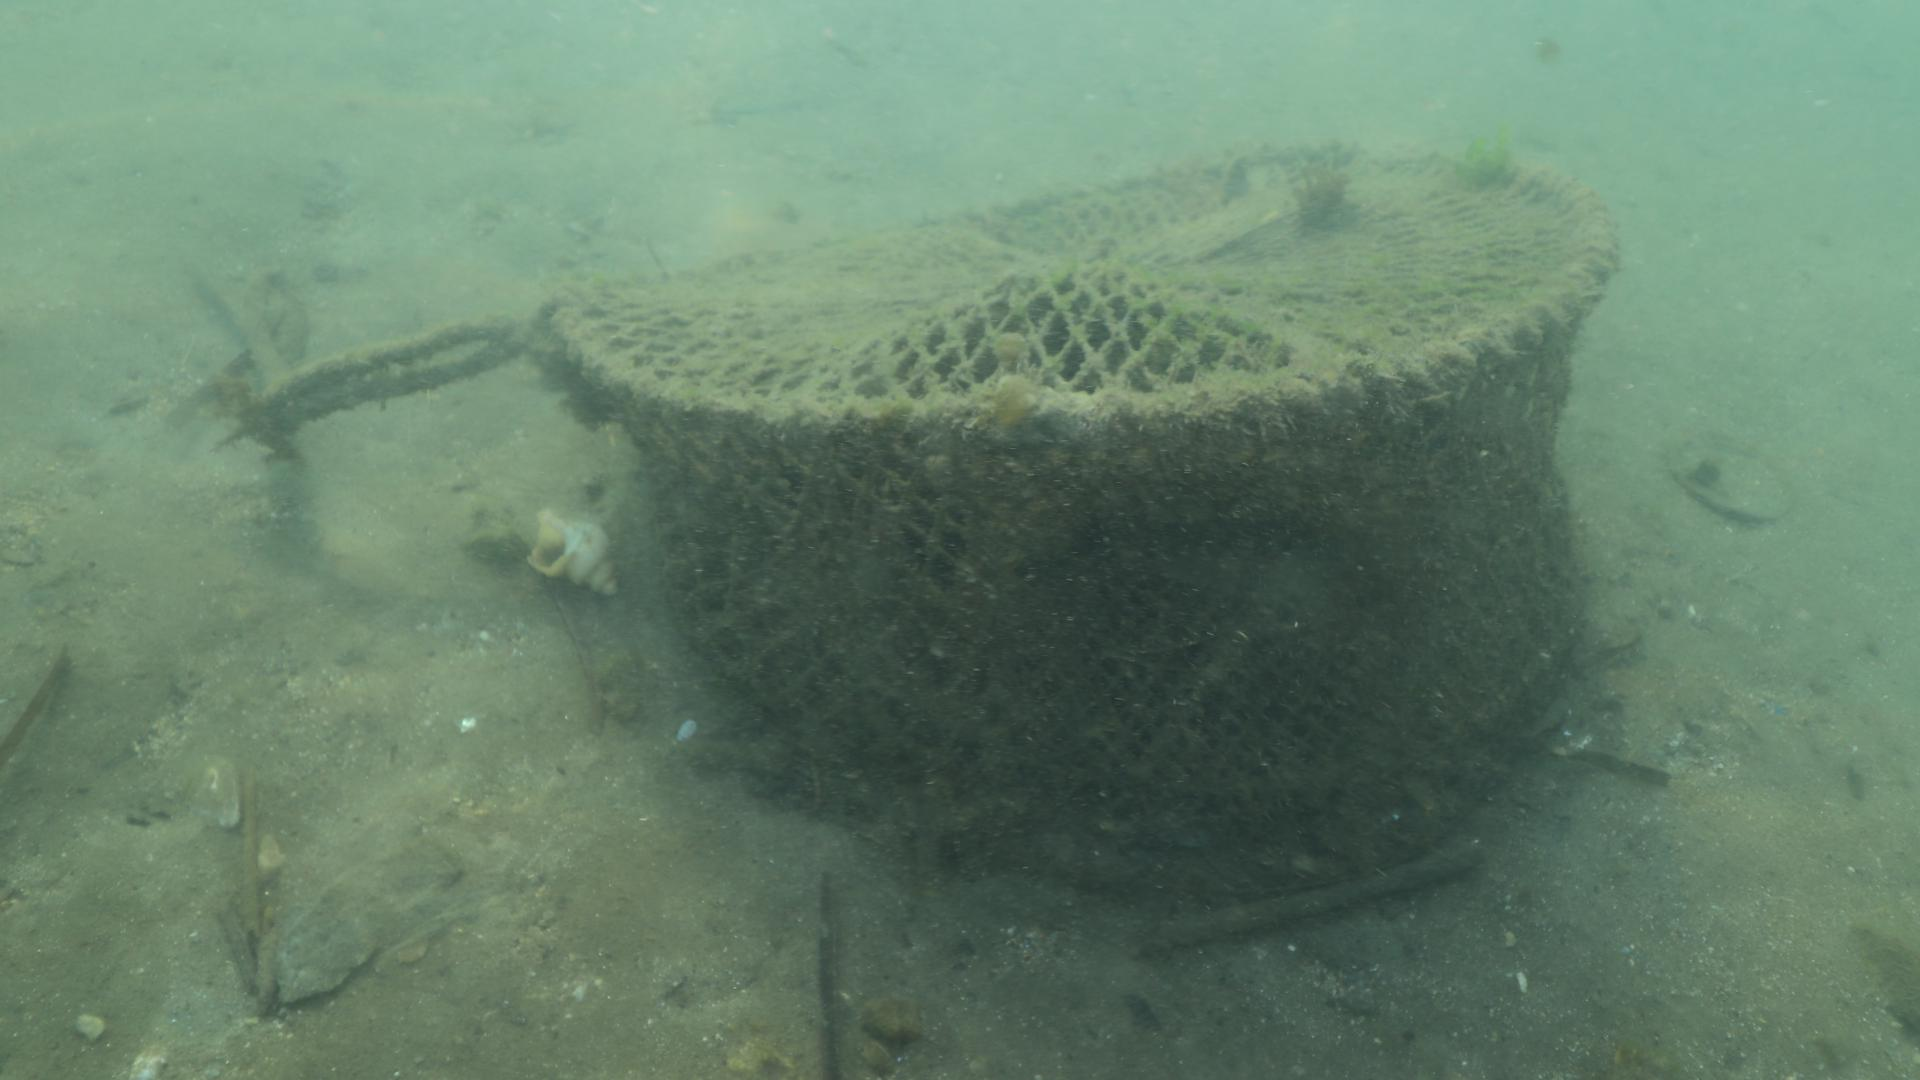bundle of ropes: (236, 262, 526, 429)
circular fish trap: (535, 142, 1622, 882)
